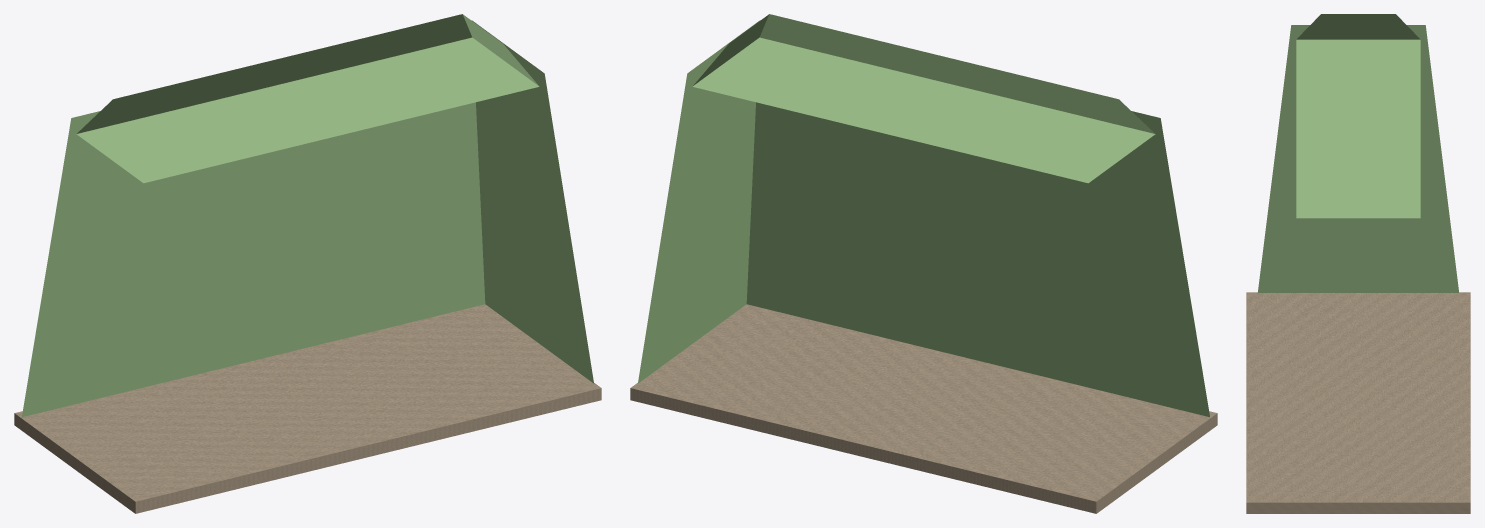
File: dog-agility-and-training-field-hedge-section-5a0f31d8__35618.glb
The picture shows the model from 3 angles, left to right: view 1: azimuth 30°, elevation 25°; view 2: azimuth 150°, elevation 25°; view 3: azimuth 270°, elevation 25°; orthographic projection. The views are drawn at different scales.
Parts seen in each view (by area): view 1: hedge-section-grass, hedge-section-soil; view 2: hedge-section-grass, hedge-section-soil; view 3: hedge-section-soil, hedge-section-grass.
Part boxes in pixels (left/top/right/bottom): hedge-section-grass: left=22, top=14, right=593, bottom=416; hedge-section-soil: left=14, top=304, right=601, bottom=513; hedge-section-grass: left=638, top=14, right=1209, bottom=416; hedge-section-soil: left=630, top=304, right=1217, bottom=513; hedge-section-soil: left=1246, top=292, right=1470, bottom=513; hedge-section-grass: left=1257, top=14, right=1459, bottom=292.
Bounding box in the file's own units: 2 × 1.4 × 0.9.
Materials: 2 (1 with a texture image).
